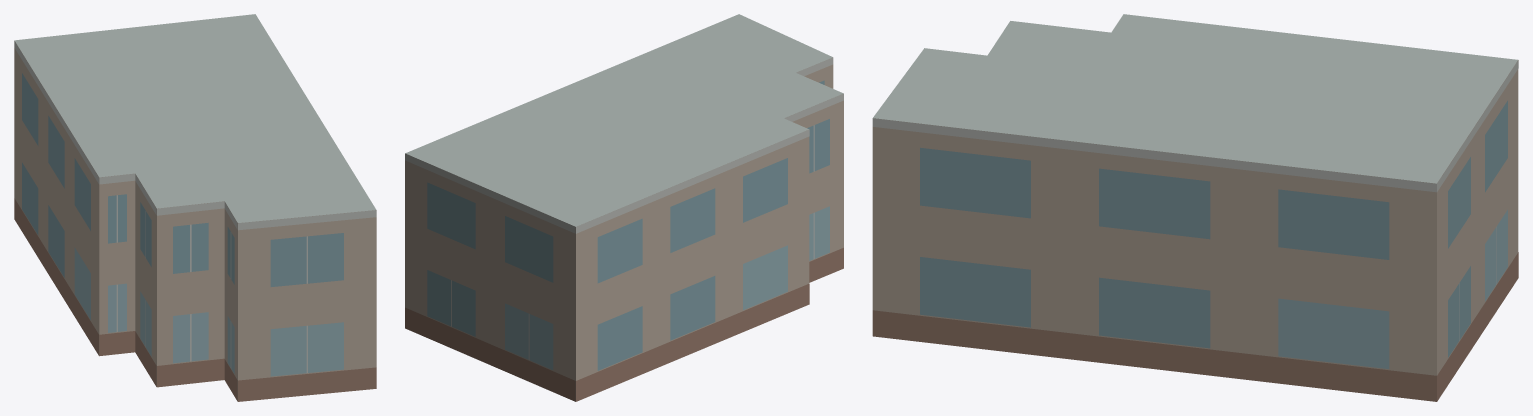
The model's file is survey-upis-32777657.glb.
The picture shows the model from 3 angles, left to right: view 1: azimuth 30°, elevation 25°; view 2: azimuth 150°, elevation 25°; view 3: azimuth 270°, elevation 25°; orthographic projection. The views are drawn at different scales.
Parts seen in each view (by area): view 1: survey-upis-32777657.tmp; view 2: survey-upis-32777657.tmp; view 3: survey-upis-32777657.tmp.
Part boxes in pixels (x1=…): survey-upis-32777657.tmp: x1=14, y1=14, x2=376, y2=401; survey-upis-32777657.tmp: x1=405, y1=14, x2=843, y2=401; survey-upis-32777657.tmp: x1=872, y1=14, x2=1518, y2=401.
Size of the model in its own units: 10.18 by 6.1 by 16.37.
